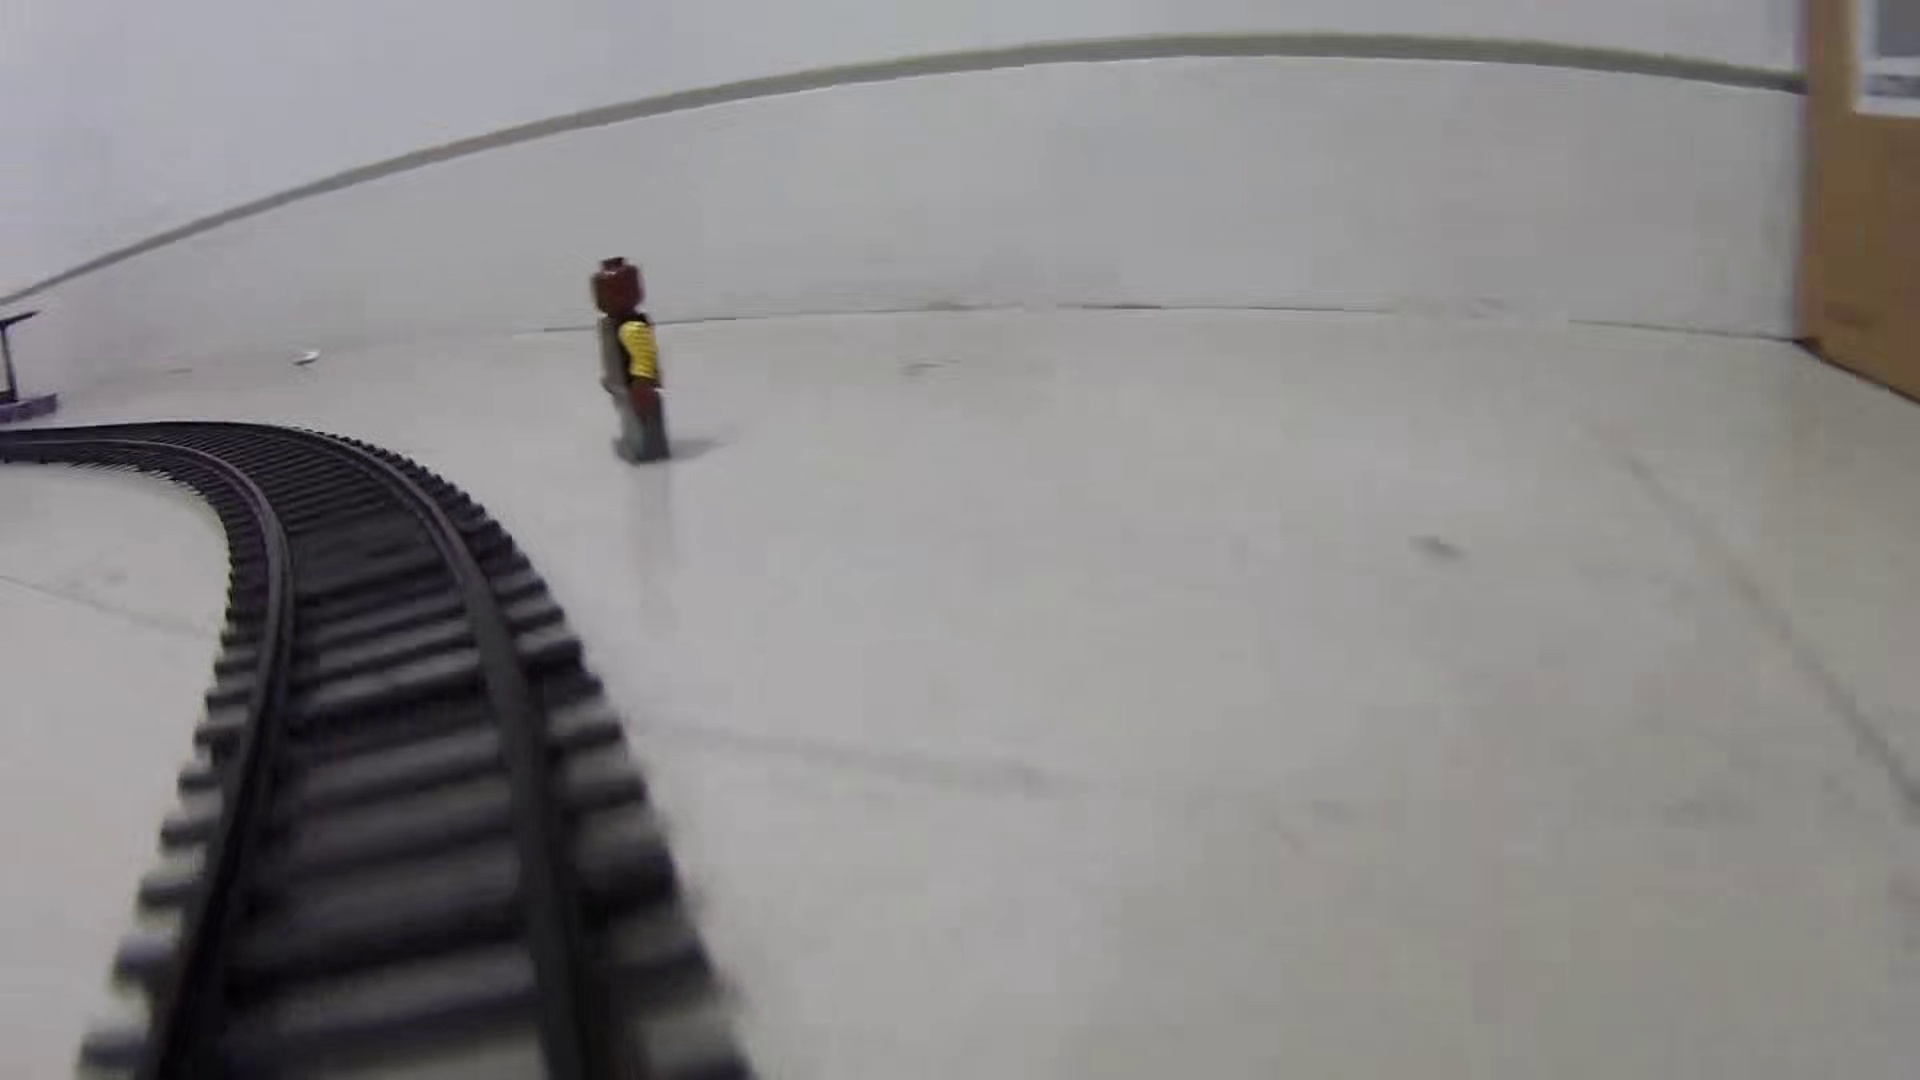people: (588, 254, 674, 464)
